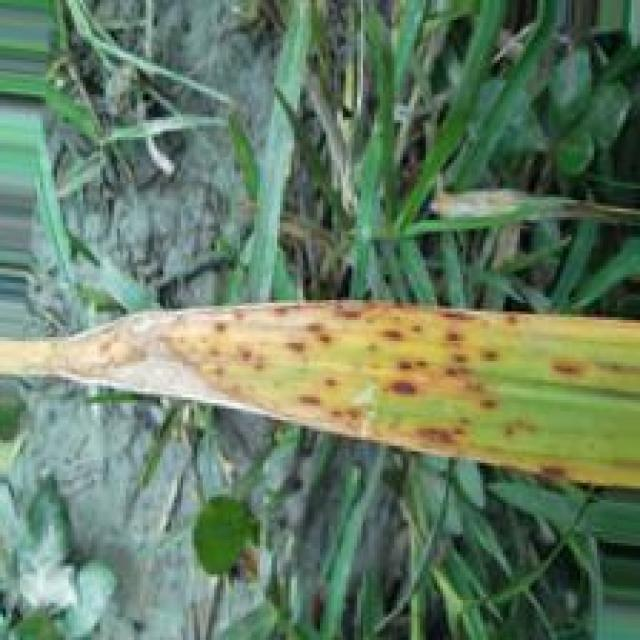Narrow_Brown_Leaf_Spot: (0, 303, 640, 493)
